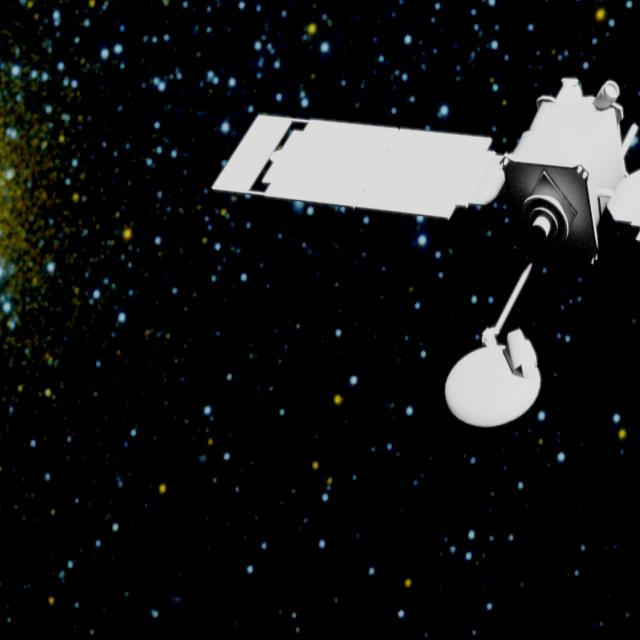satellite: (168, 68, 640, 434)
